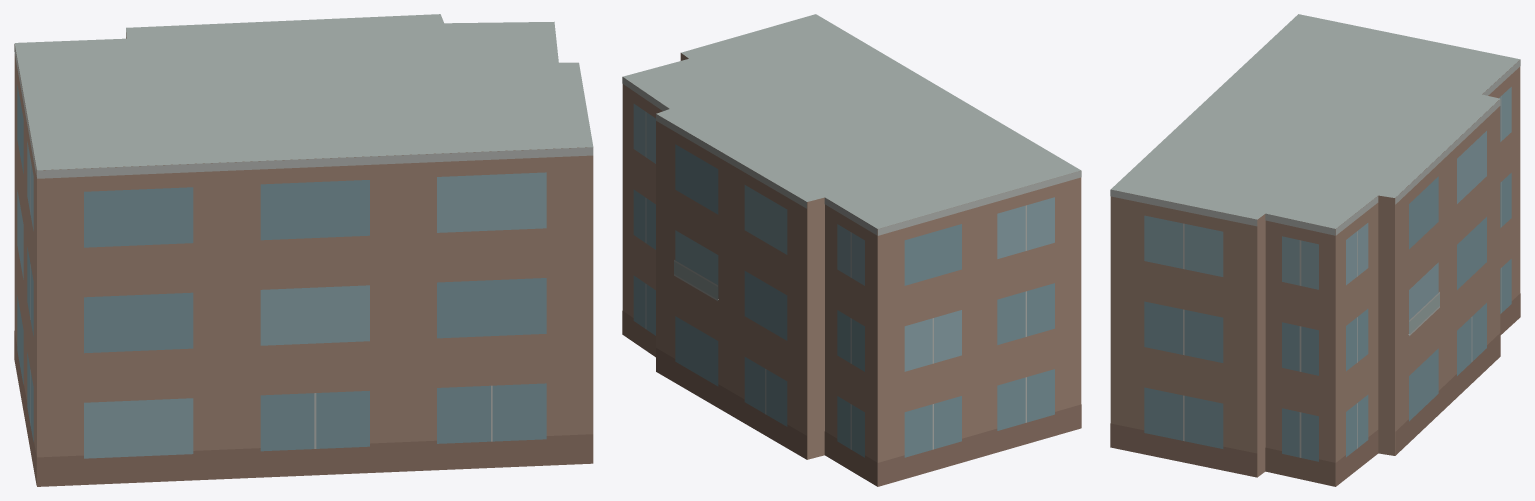
File: survey-upis-32901074.glb
3 renders of one model, left to right at view 1: azimuth 30°, elevation 25°; view 2: azimuth 150°, elevation 25°; view 3: azimuth 270°, elevation 25°, orthographic. The views are drawn at different scales.
Parts seen in each view (by area): view 1: survey-upis-32901074.tmp; view 2: survey-upis-32901074.tmp; view 3: survey-upis-32901074.tmp.
Boxes of the visible parts, left/top/right/bottom form: survey-upis-32901074.tmp: left=14, top=14, right=593, bottom=486; survey-upis-32901074.tmp: left=622, top=14, right=1081, bottom=486; survey-upis-32901074.tmp: left=1110, top=14, right=1520, bottom=486.
Bounding box in the file's own units: 16.36 × 9.15 × 13.19.
